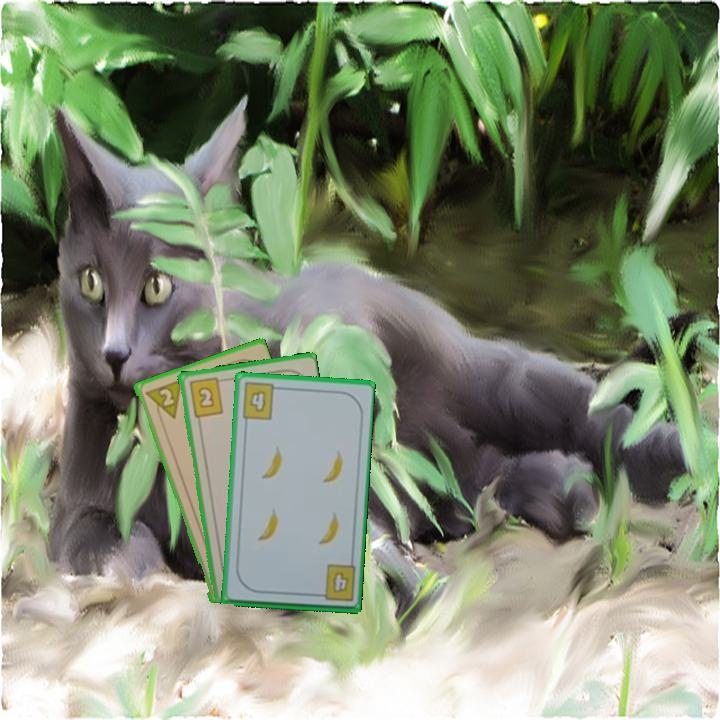2b: (185, 374, 227, 419)
2p: (140, 376, 184, 425)
4b: (312, 561, 358, 604), (239, 379, 283, 423)
